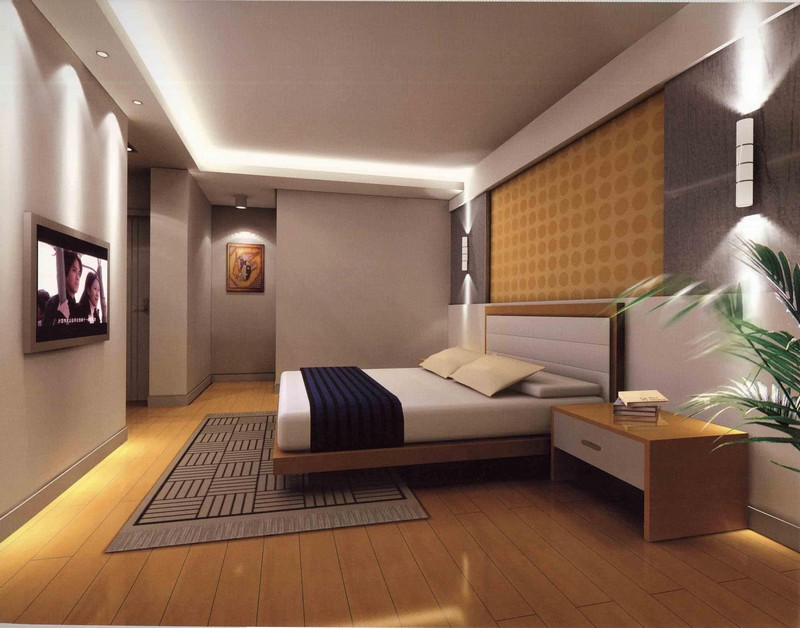bed: (278, 298, 624, 488)
lamp: (713, 77, 776, 257), (456, 210, 482, 297)
stool: (548, 399, 750, 547)
